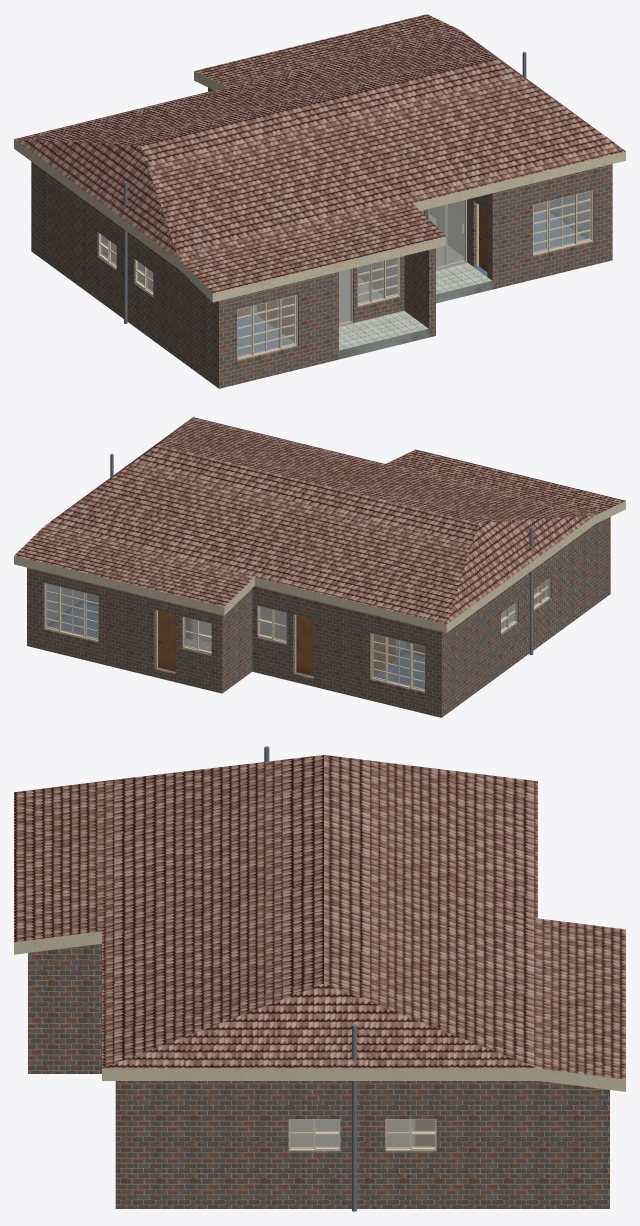
Rendered from HouseD.fbx.
3 renders of one model, top to bottom at view 1: azimuth 30°, elevation 25°; view 2: azimuth 150°, elevation 25°; view 3: azimuth 270°, elevation 25°, orthographic. The views are drawn at different scales.
Parts seen in each view (by area): view 1: roof1, wall01, wall02, middle_wall, floor01, window (×2), main_floor01, floor02, left_window (×2), right_window (×2), door_fixed (×2), frame (×2) (+6 smaller); view 2: roof1, wall01, wall02, middle_wall, window (×2), left_window (×2), right_window (×2), frame (×2), main_floor02, door06, door07, main_floor01 (+1 smaller); view 3: roof1, wall02, middle_wall, inner_wall02, open_window (×2), pipes, window.
Boxes of the visible parts, bbox=[...] form: roof1: bbox=[14, 14, 625, 302]; wall01: bbox=[31, 161, 404, 388]; wall02: bbox=[423, 164, 612, 289]; middle_wall: bbox=[208, 87, 435, 337]; floor01: bbox=[339, 310, 428, 359]; window (×2): bbox=[254, 195, 574, 353]; main_floor01: bbox=[238, 270, 381, 356]; floor02: bbox=[436, 262, 492, 303]; left_window (×2): bbox=[238, 191, 591, 358]; right_window (×2): bbox=[281, 201, 547, 347]; door_fixed (×2): bbox=[339, 204, 447, 324]; frame (×2): bbox=[237, 190, 593, 360]; roof1: bbox=[14, 417, 625, 632]; wall01: bbox=[252, 517, 610, 717]; wall02: bbox=[27, 567, 216, 691]; middle_wall: bbox=[216, 588, 286, 693]; window (×2): bbox=[61, 587, 409, 686]; left_window (×2): bbox=[85, 593, 385, 680]; right_window (×2): bbox=[46, 583, 424, 690]; frame (×2): bbox=[44, 583, 424, 692]; main_floor02: bbox=[51, 603, 211, 650]; door06: bbox=[158, 610, 175, 671]; door07: bbox=[296, 615, 313, 675]; main_floor01: bbox=[285, 639, 424, 688]; roof1: bbox=[14, 755, 625, 1091]; wall02: bbox=[115, 1081, 609, 1208]; middle_wall: bbox=[28, 943, 101, 1073]; inner_wall02: bbox=[291, 1119, 413, 1146]; open_window (×2): bbox=[290, 1119, 410, 1148]; pipes: bbox=[264, 746, 356, 1211]; window: bbox=[411, 1119, 435, 1147].
Size of the model in its own units: 116 by 37.79 by 104.
Materials: 15 (13 with a texture image).
